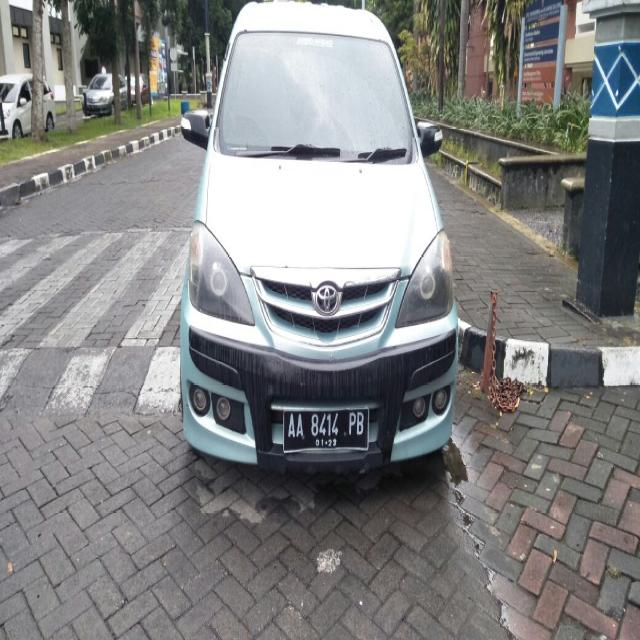plate: (282, 408, 370, 452)
